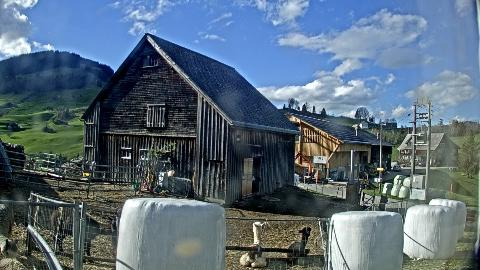car: (392, 164, 402, 172), (418, 162, 426, 166)
sheep: (51, 208, 119, 256), (240, 220, 266, 266), (0, 202, 18, 260), (288, 226, 312, 264), (362, 194, 388, 210), (0, 258, 30, 270), (313, 232, 327, 250), (347, 205, 371, 211), (318, 220, 330, 232), (252, 174, 260, 192), (252, 176, 256, 182)
